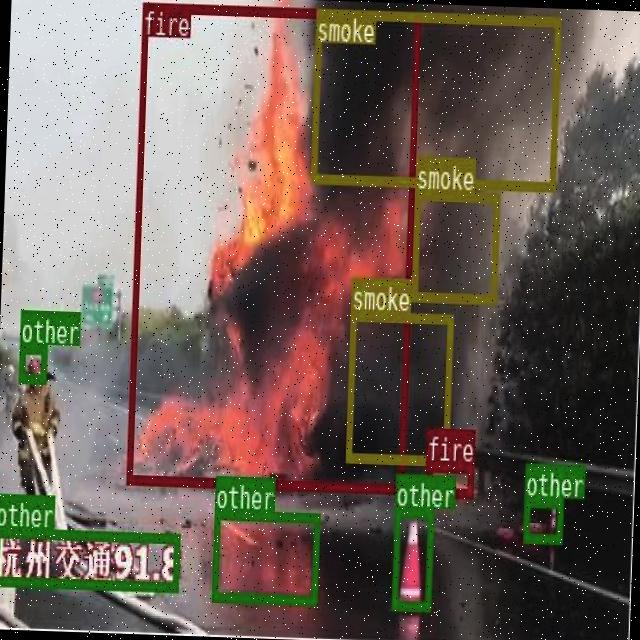fire: (125, 1, 419, 492), (424, 460, 472, 495)
smoke: (310, 7, 560, 190), (344, 309, 452, 464), (410, 188, 498, 302)
